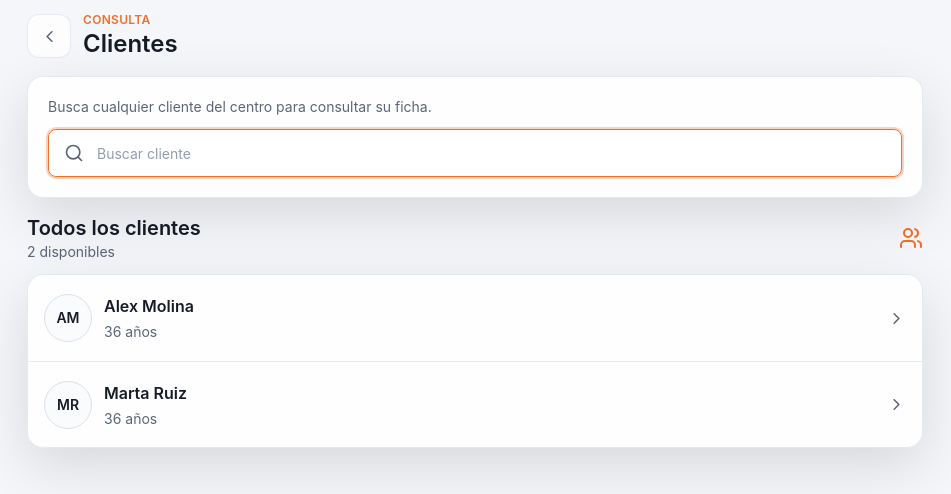
Test case: TrainerClientsPage › filters the list as the trainer searches
In the search field with placeholder "Buscar cliente": (475, 153) [48, 129, 902, 177], type "Marta"
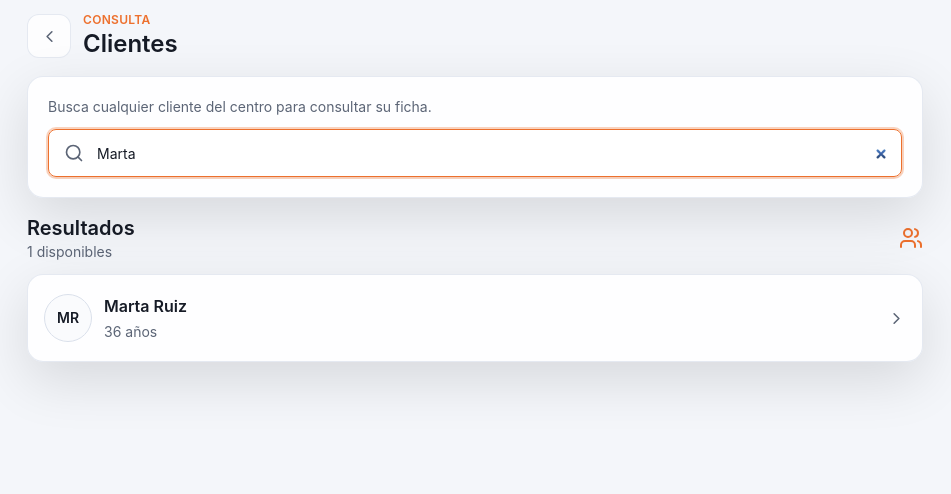
Expected: the button "MR Marta Ruiz 36 años" is shown, [28, 275, 922, 361]
Result: the button "Alex Molina" is gone
